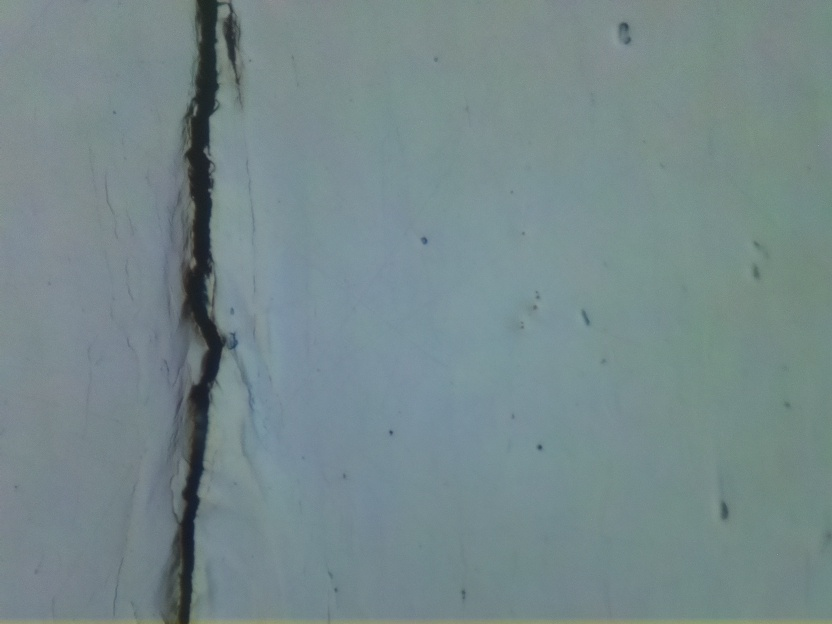crack: (164, 0, 233, 624)
